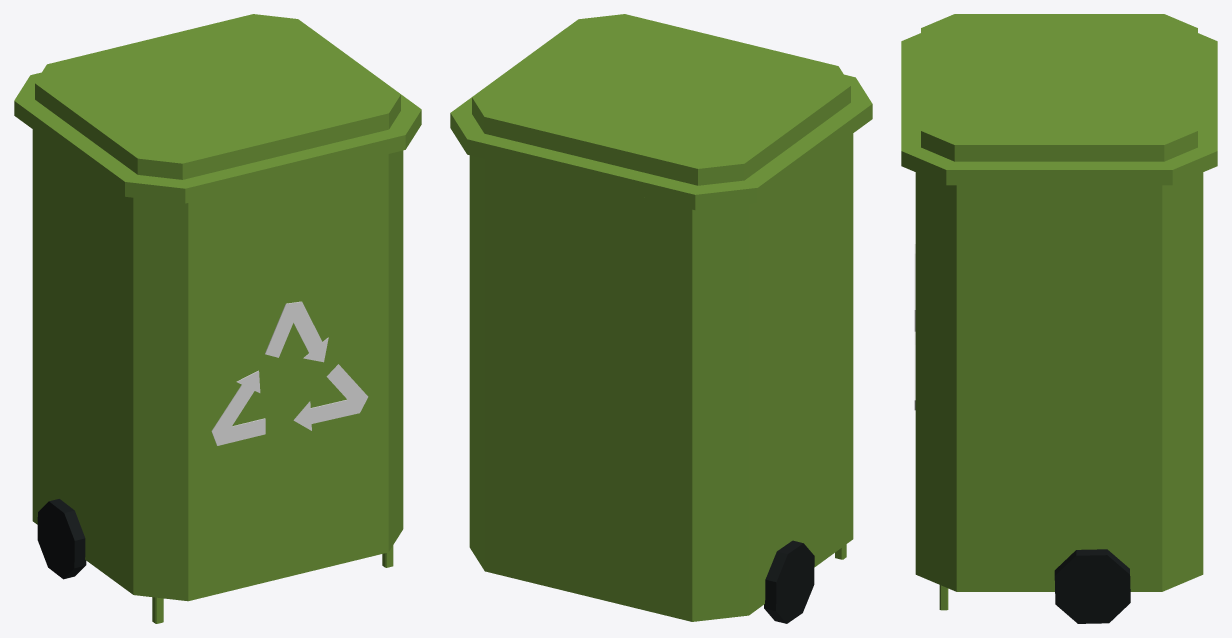
The model's file is trash_green_H.fbx.
The picture shows the model from 3 angles, left to right: view 1: azimuth 30°, elevation 25°; view 2: azimuth 150°, elevation 25°; view 3: azimuth 270°, elevation 25°; orthographic projection. The views are drawn at different scales.
Visible parts, largest first — view 1: Cube.009, Cube.010; view 2: Cube.009, Cube.010; view 3: Cube.009, Cube.010.
Boxes of the visible parts, x1=… form: Cube.009: x1=32, y1=129, x2=403, y2=623; Cube.010: x1=14, y1=14, x2=421, y2=203; Cube.009: x1=469, y1=133, x2=853, y2=623; Cube.010: x1=450, y1=14, x2=872, y2=210; Cube.009: x1=914, y1=172, x2=1203, y2=623; Cube.010: x1=901, y1=14, x2=1217, y2=185.
Size of the model in its own units: 0.7937 by 0.7181 by 1.18.
1 material, 1 textured.
